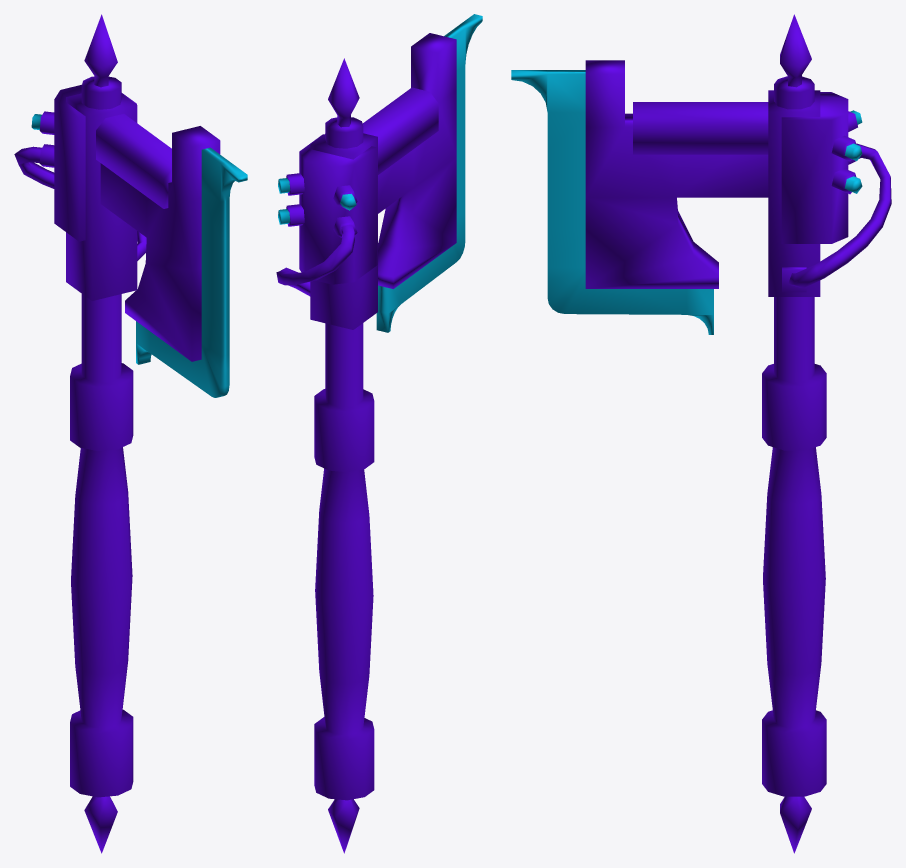
Rendered from handaxe.fbx.
3 renders of one model, left to right at view 1: azimuth 30°, elevation 25°; view 2: azimuth 150°, elevation 25°; view 3: azimuth 270°, elevation 25°, orthographic. The views are drawn at different scales.
Visible parts, largest first — view 1: handaxe_low1_blade_cover; view 2: handaxe_low1_blade_cover; view 3: handaxe_low1_blade_cover.
Part boxes in pixels (left/top/right/bottom): handaxe_low1_blade_cover: left=14, top=14, right=247, bottom=853; handaxe_low1_blade_cover: left=276, top=14, right=482, bottom=853; handaxe_low1_blade_cover: left=511, top=14, right=891, bottom=853.
Bounding box in the file's own units: 14.29 × 109 × 44.9.
